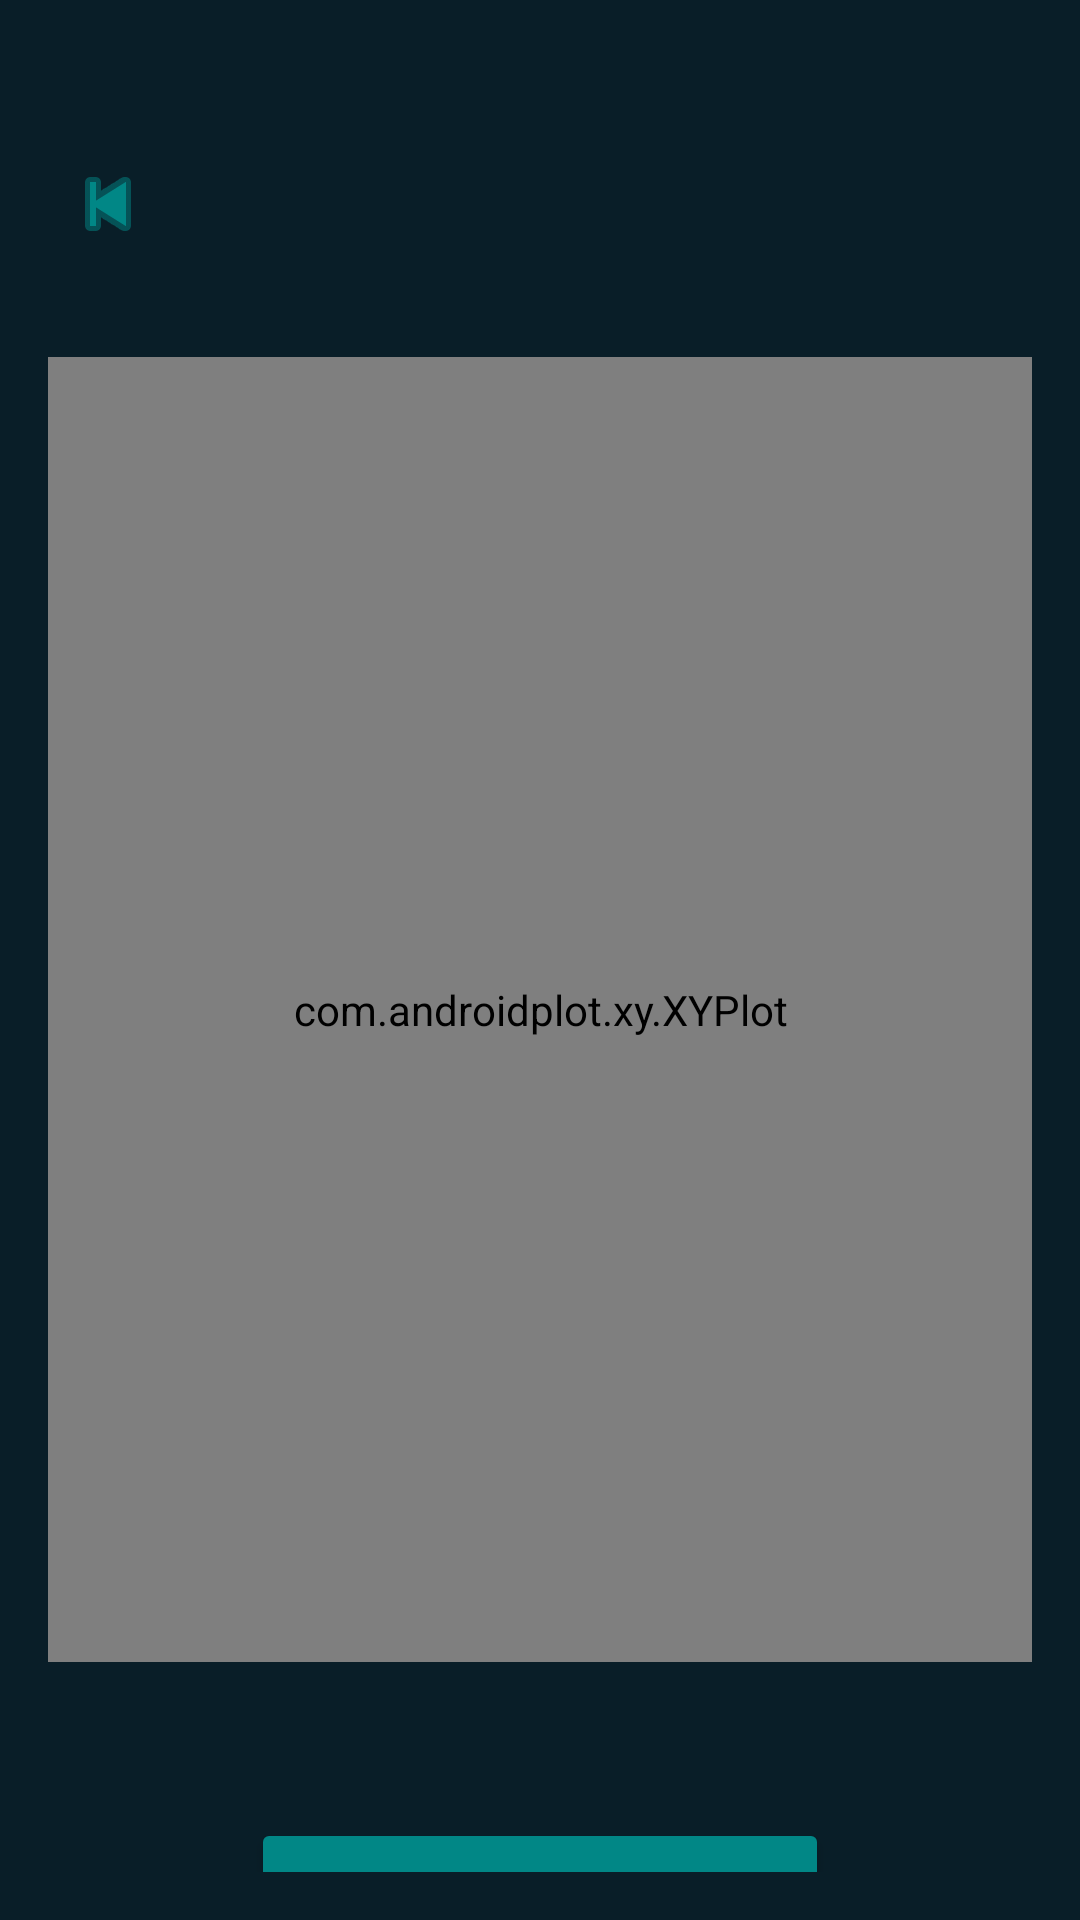

Icons on this 1080 x 1920 Android screen, each with the point to tap as [x,y]:
previous: [108,204]
